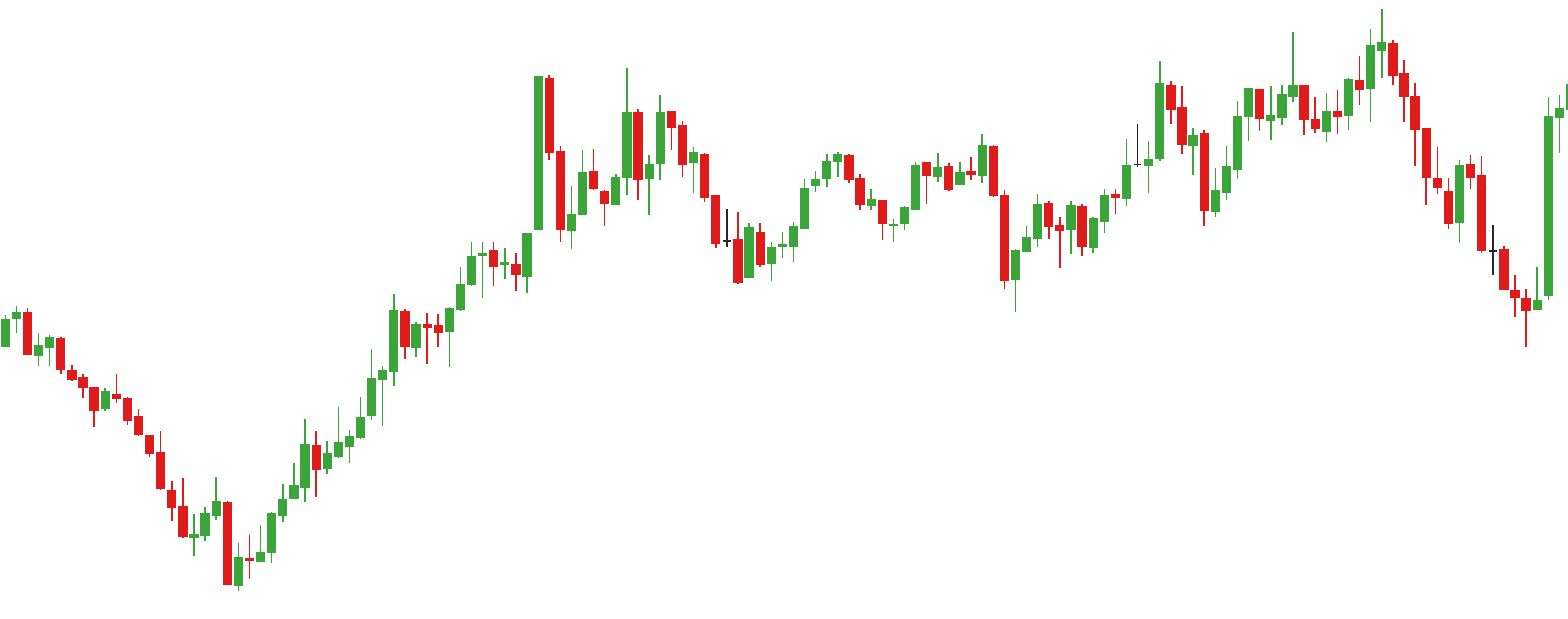buy: (731, 184, 1023, 316), (1143, 126, 1231, 223)
sell: (1288, 5, 1398, 104)
